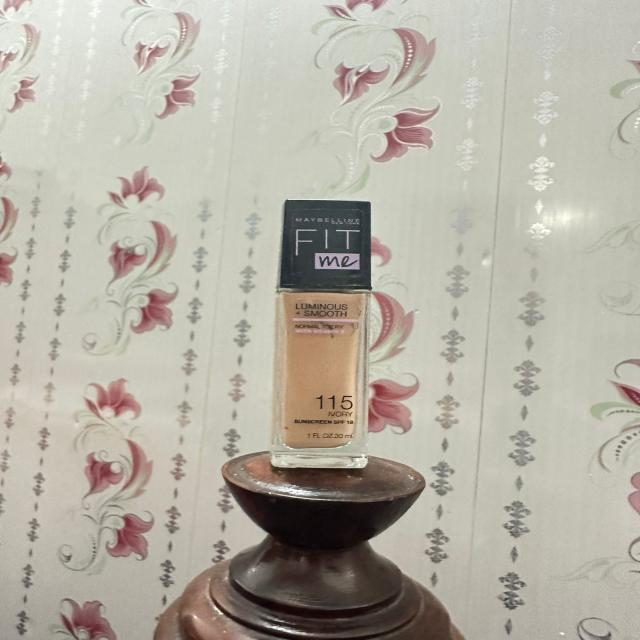foundation: (262, 170, 402, 482)
